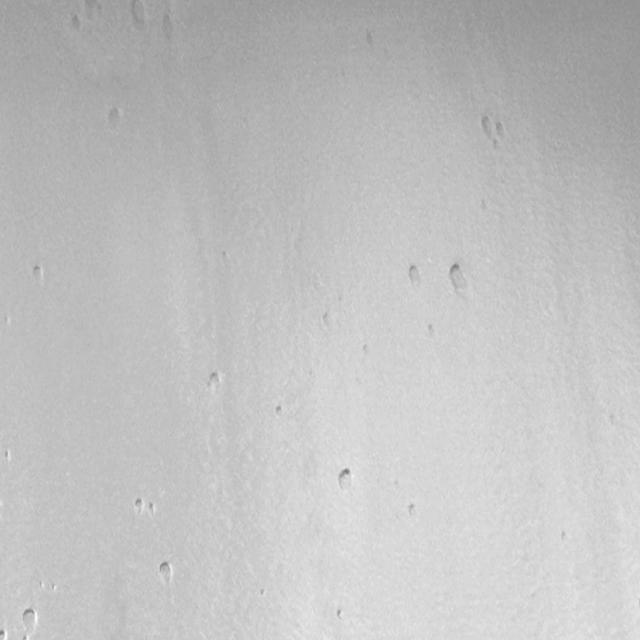pin holes: (443, 261, 472, 300), (126, 0, 151, 29), (335, 465, 358, 494), (204, 369, 227, 396), (20, 606, 41, 635), (155, 560, 176, 589), (105, 107, 126, 135), (404, 262, 424, 289), (29, 262, 49, 287), (67, 8, 87, 33), (317, 309, 336, 333), (404, 500, 423, 522), (480, 114, 492, 138), (334, 606, 350, 624), (2, 312, 16, 332), (147, 501, 162, 519), (272, 402, 286, 420), (494, 121, 506, 141), (558, 529, 571, 547), (4, 448, 17, 466), (424, 322, 436, 340), (1, 447, 12, 466), (132, 498, 144, 514), (362, 342, 374, 358), (221, 249, 231, 267), (366, 30, 375, 48), (49, 582, 60, 596), (0, 626, 7, 638)
